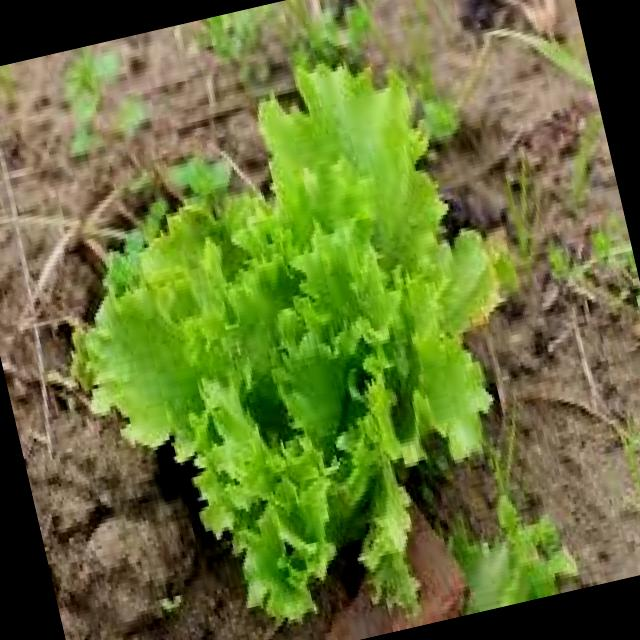inmadura: (70, 62, 503, 615)
